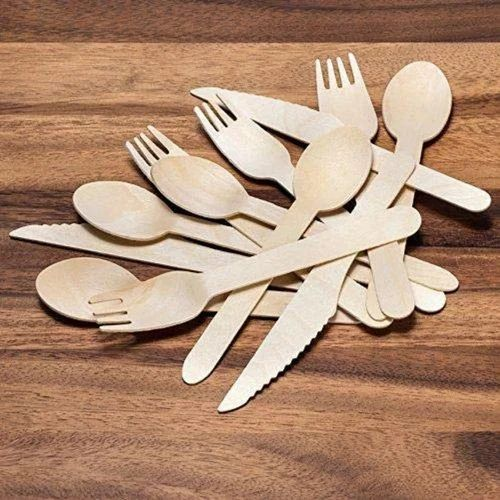Wooden Utensils: (20, 63, 479, 406)
